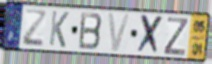B: (77, 10, 104, 52)
K: (48, 10, 70, 50)
V: (107, 12, 132, 54)
X: (135, 13, 165, 57)
Z: (162, 16, 190, 57), (21, 8, 48, 49)
